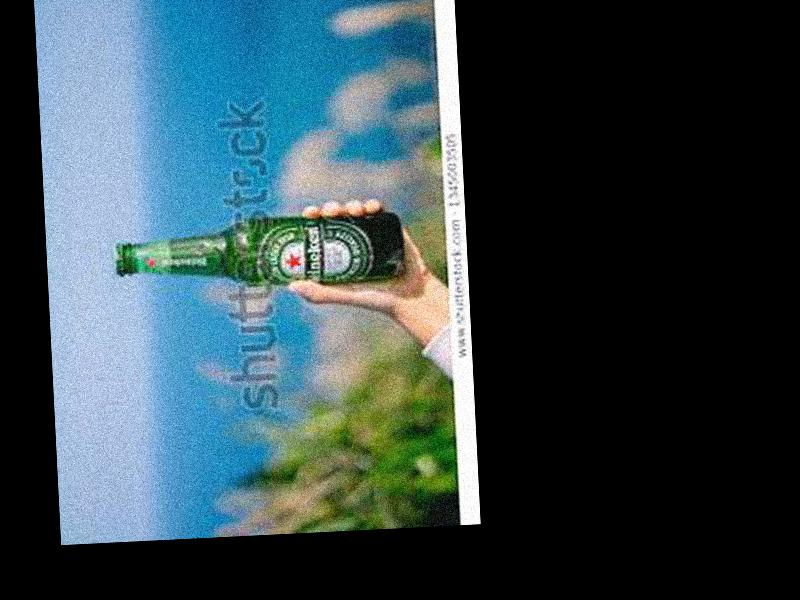Beer: (112, 212, 401, 297)
